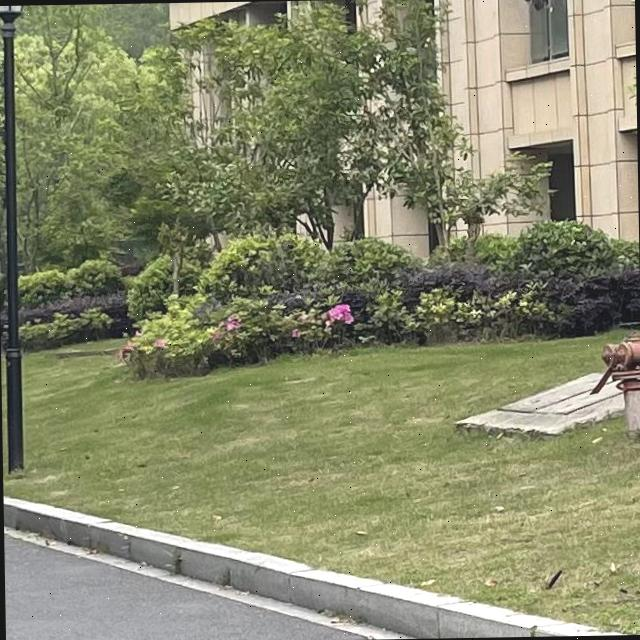curb: (3, 496, 620, 637)
